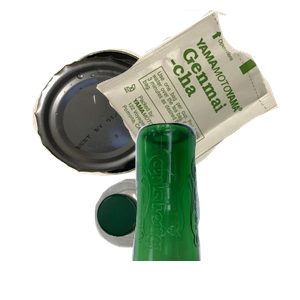glass: (129, 120, 300, 300)
metal: (30, 46, 205, 215)
plastic: (92, 176, 257, 300)
trash: (91, 10, 300, 186)
